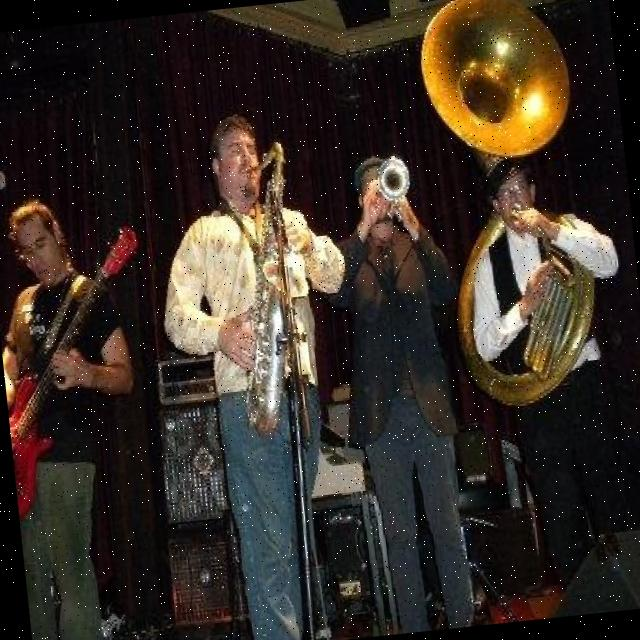saxophone: (222, 144, 316, 436)
